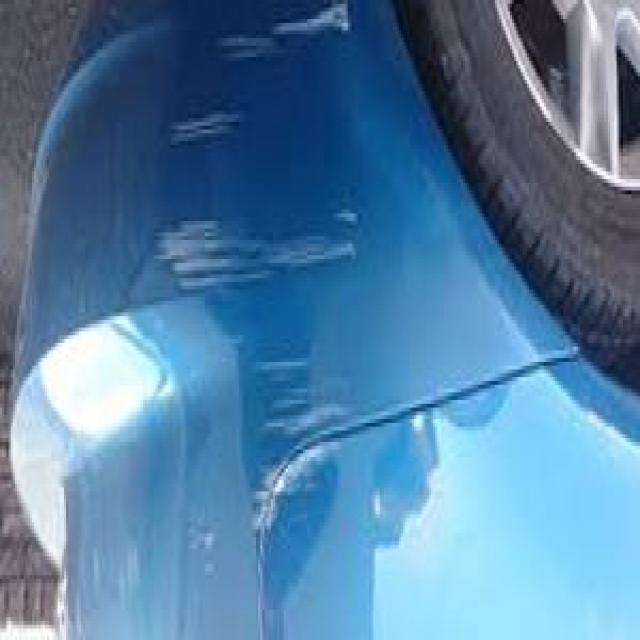scratch: (148, 6, 358, 626)
